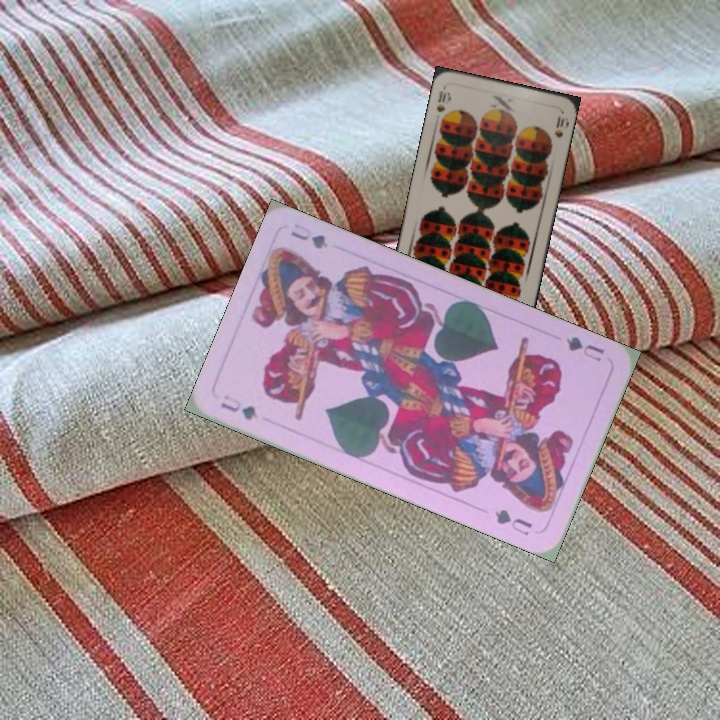GU: (561, 332, 607, 364), (216, 391, 261, 423)
S10: (432, 87, 453, 115)
